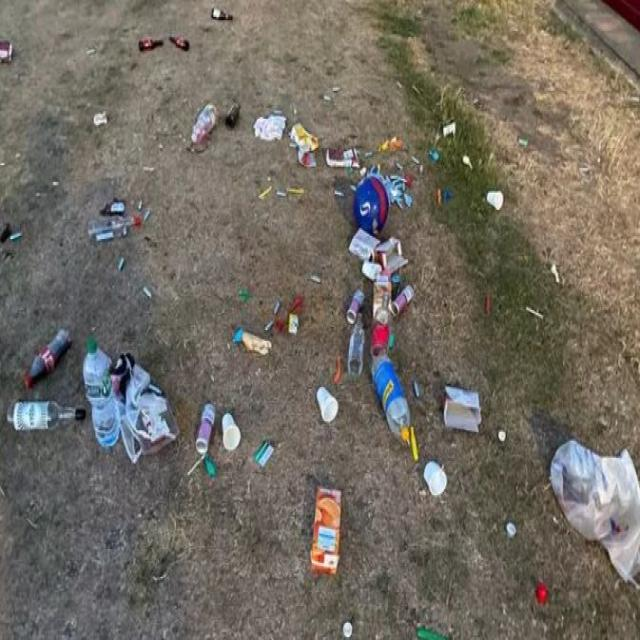dry: (544, 432, 640, 596), (79, 337, 129, 462), (370, 357, 421, 448), (308, 480, 344, 577), (442, 375, 484, 446), (194, 398, 219, 462), (190, 100, 222, 150), (250, 109, 290, 148), (348, 222, 381, 265), (315, 379, 340, 431), (422, 460, 453, 500), (324, 145, 364, 175), (220, 404, 242, 457), (487, 184, 508, 219)
